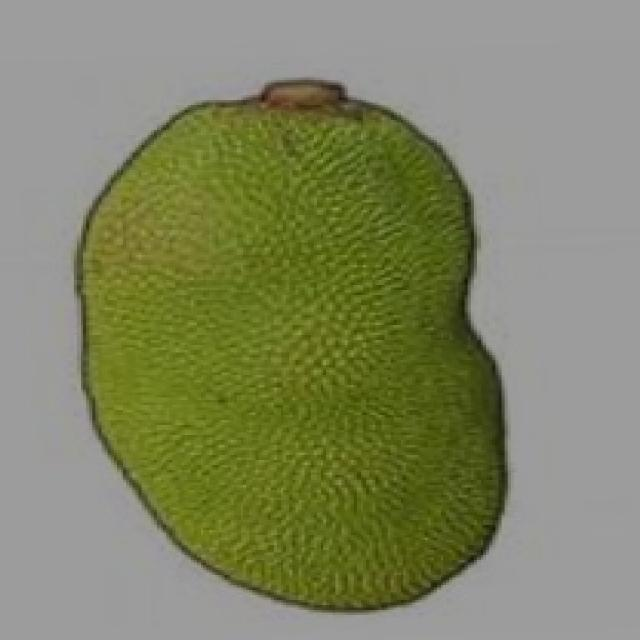Fruit: (216, 260, 538, 638)
